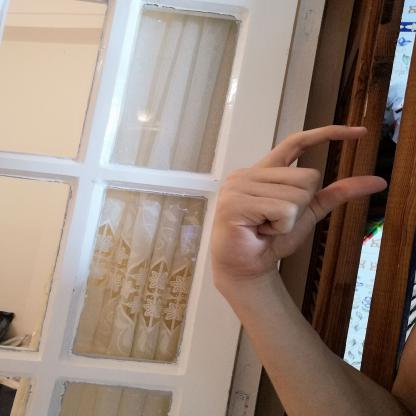DELL: (196, 115, 397, 291)
